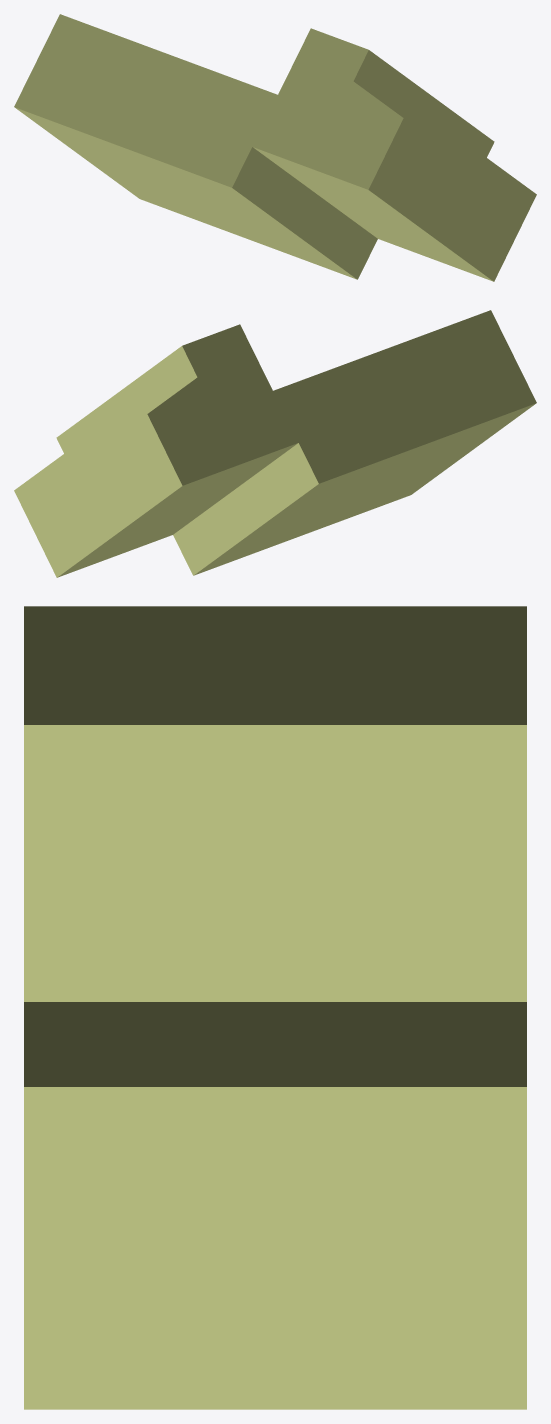
3 renders of one model, top to bottom at view 1: azimuth 30°, elevation 25°; view 2: azimuth 150°, elevation 25°; view 3: azimuth 270°, elevation 25°, orthographic. The views are drawn at different scales.
Visible parts, largest first — view 1: 0_0_1_3_2_1_2_1_1_3; view 2: 0_0_1_3_2_1_2_1_1_3; view 3: 0_0_1_3_2_1_2_1_1_3.
Part boxes in pixels (<box>): 0_0_1_3_2_1_2_1_1_3: <box>14,14,536,281</box>; 0_0_1_3_2_1_2_1_1_3: <box>14,310,536,577</box>; 0_0_1_3_2_1_2_1_1_3: <box>24,606,526,1409</box>.
Size of the model in its own units: 16.42 by 9.92 by 9.
